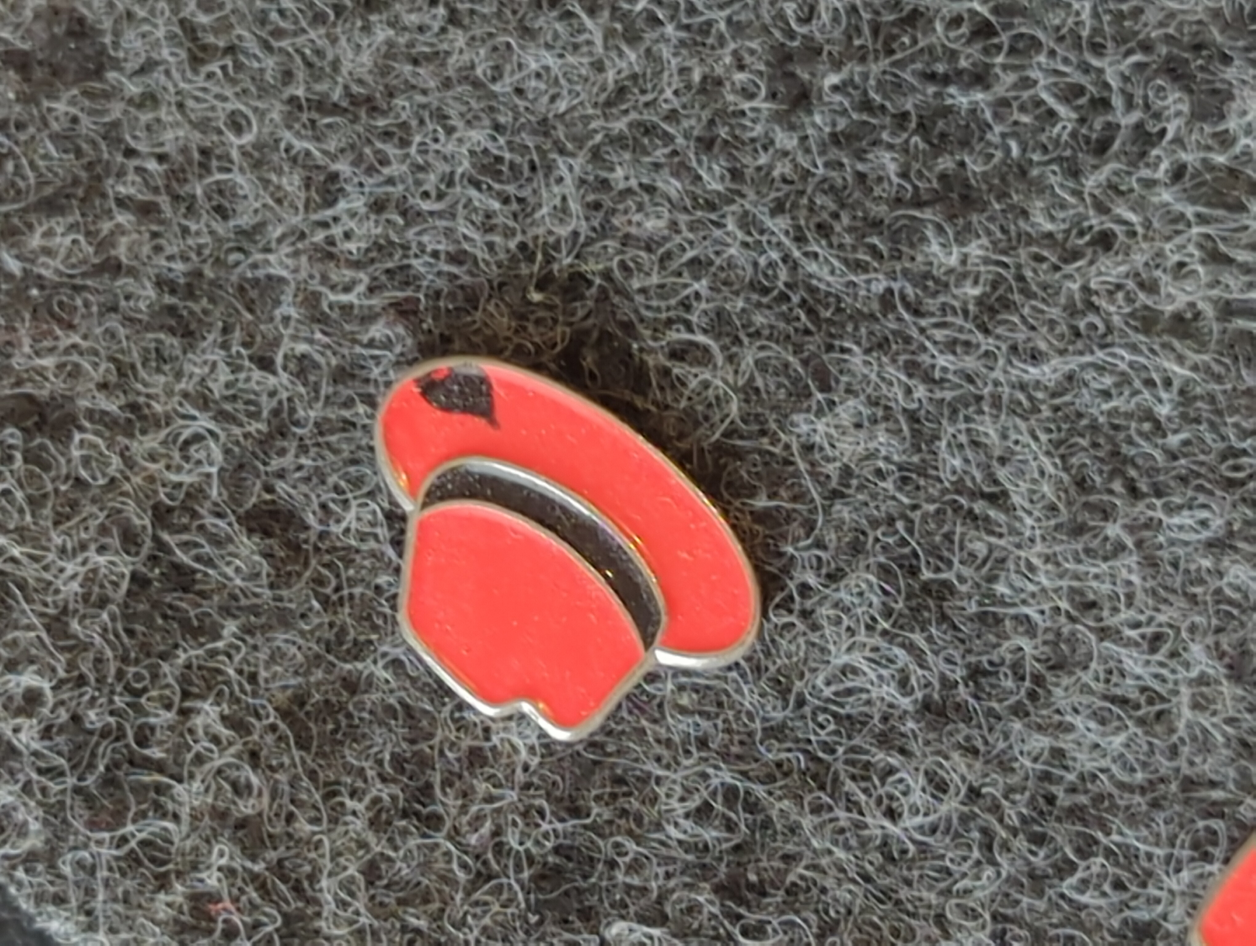Red-Hat: (295, 277, 916, 870)
Scratch: (361, 322, 560, 459)
